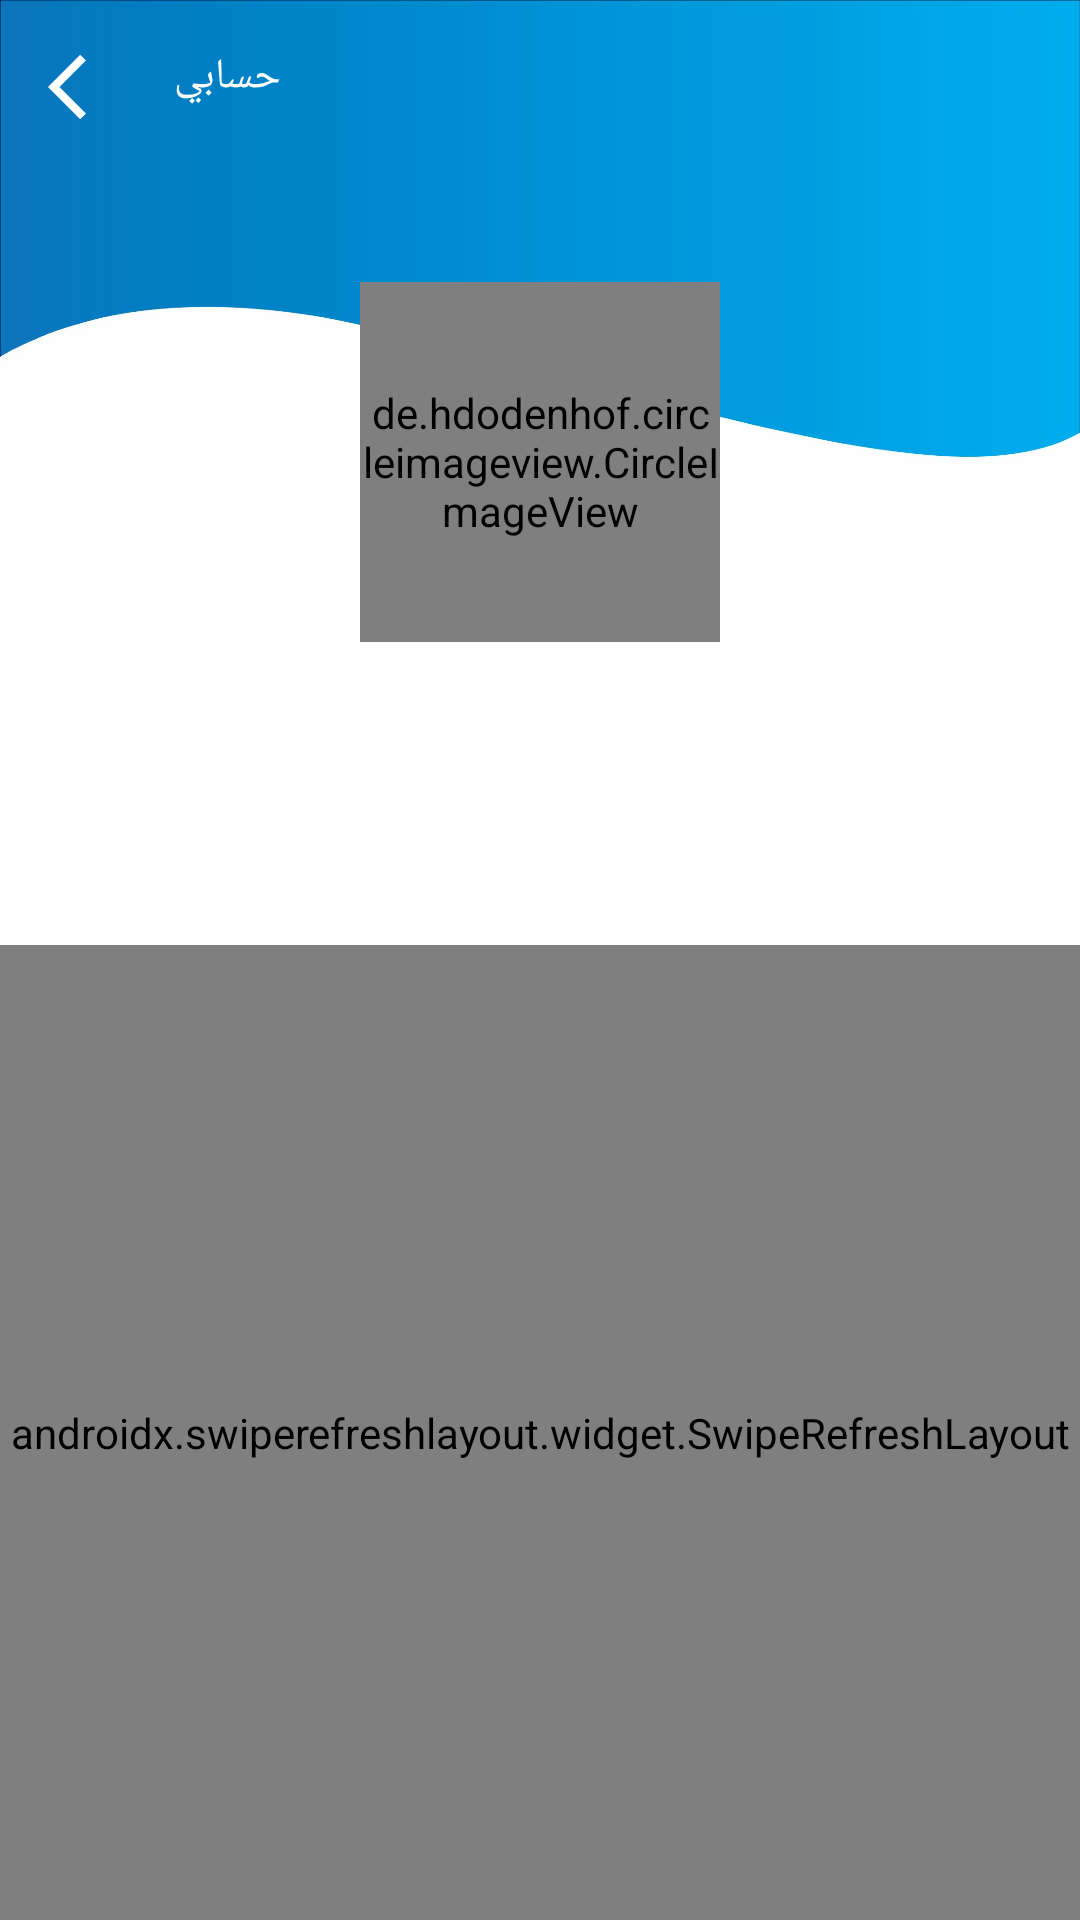

Named icons in this screenshot (1080x1920) and their bounding boxes, (x1, y1, x2, y2):
arrow back: (48, 55, 86, 119)
